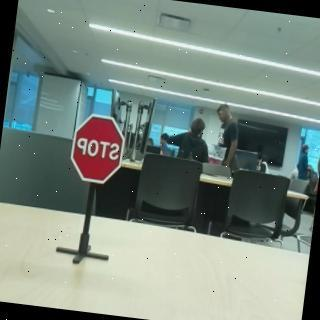sign_stop: (67, 110, 130, 188)
